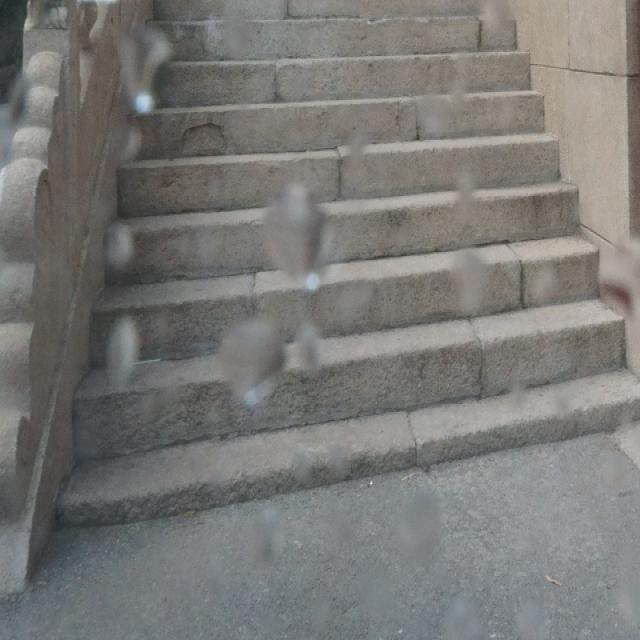raindrop: (256, 175, 336, 298), (205, 310, 288, 418), (591, 245, 640, 368), (114, 20, 172, 120), (381, 474, 436, 578), (507, 244, 577, 310), (430, 250, 492, 324), (211, 10, 290, 68), (406, 76, 468, 139), (97, 314, 142, 399), (319, 266, 377, 324), (437, 175, 489, 238), (243, 503, 293, 561), (103, 210, 138, 280), (96, 126, 146, 174), (282, 314, 322, 374), (0, 459, 35, 523), (469, 0, 507, 54), (435, 597, 482, 640), (316, 439, 351, 493), (504, 603, 548, 640), (278, 456, 310, 493)
